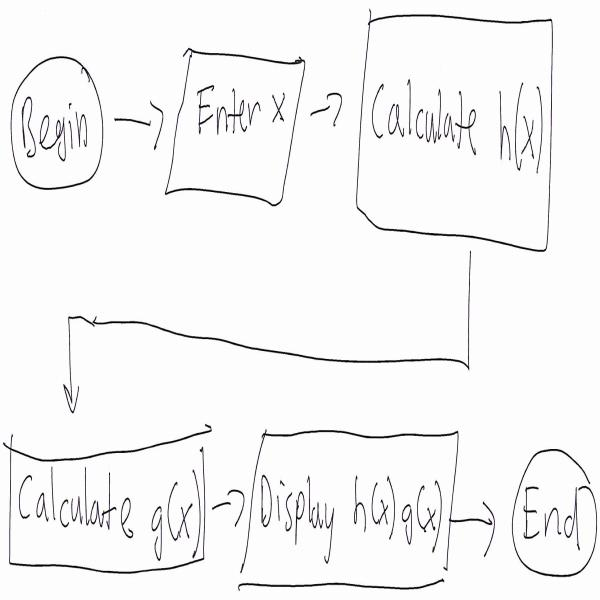arrow: (55, 252, 482, 420), (450, 489, 498, 556), (114, 94, 165, 153), (307, 80, 341, 124), (64, 357, 84, 414)
data: (247, 424, 456, 589), (167, 52, 307, 211)
process: (354, 16, 553, 247), (8, 429, 209, 566)
terminator: (11, 53, 103, 192), (513, 446, 598, 570)
text: (371, 70, 546, 180), (14, 460, 202, 558), (261, 463, 444, 549), (194, 73, 287, 150), (352, 472, 441, 543), (20, 90, 89, 157), (522, 478, 584, 547), (213, 479, 247, 531)
